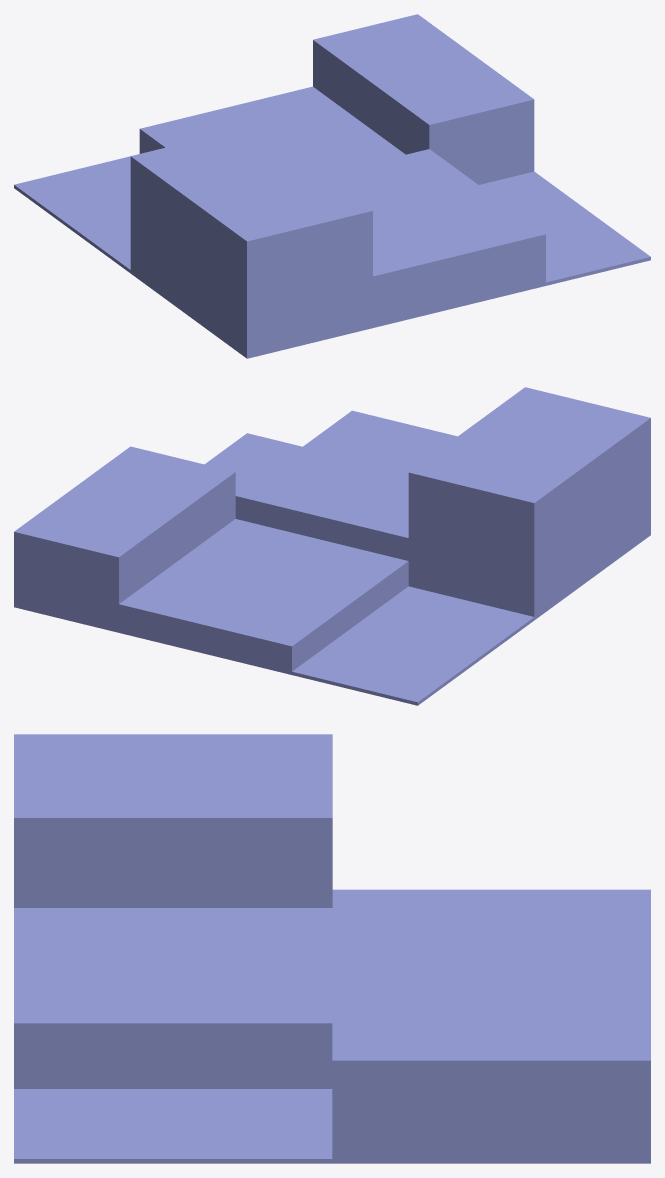
The model's file is steps.fbx.
3 views of the same model, one above another, from view 1: azimuth 30°, elevation 25°; view 2: azimuth 150°, elevation 25°; view 3: azimuth 270°, elevation 25° (orthographic). The views are drawn at different scales.
Visible parts, largest first — view 1: 平面; view 2: 平面; view 3: 平面.
Boxes of the visible parts, box(x1,y1,x2,y2) form: 平面: box(14, 14, 650, 358); 平面: box(14, 387, 650, 705); 平面: box(14, 734, 650, 1163).
Bounding box in the file's own units: 2878 × 799 × 2878.
